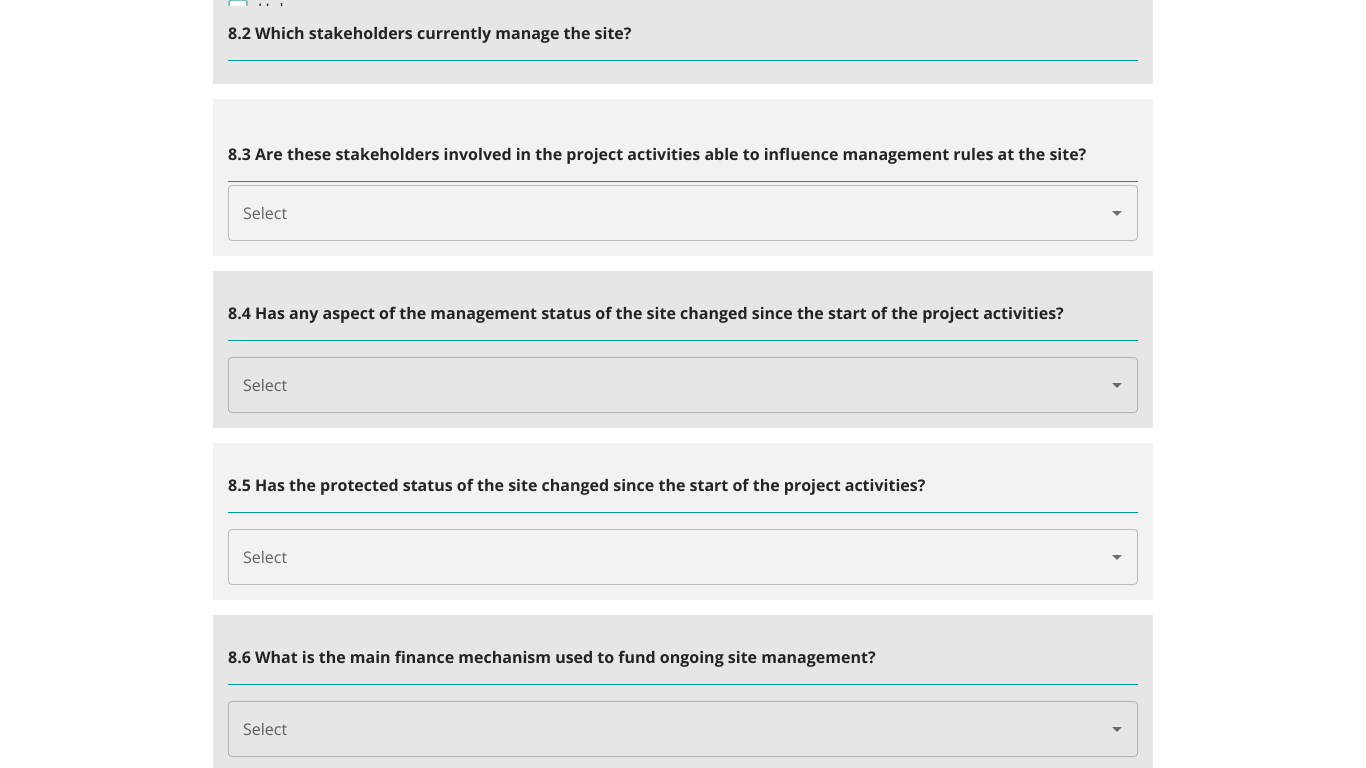
Scenario: monitoring forms › ManagementStatusAndEffectivenessForm › asks the follow-up questions only for the answers that need them
(page scrolled)
Expected: the text "8.4a What is the current management status of the site?" is not shown
Click the dropdown named "8.4 Has any aspect of the management status of the site changed since the start of the project activities?".
click(265, 384)  # box [228,356,1138,412]
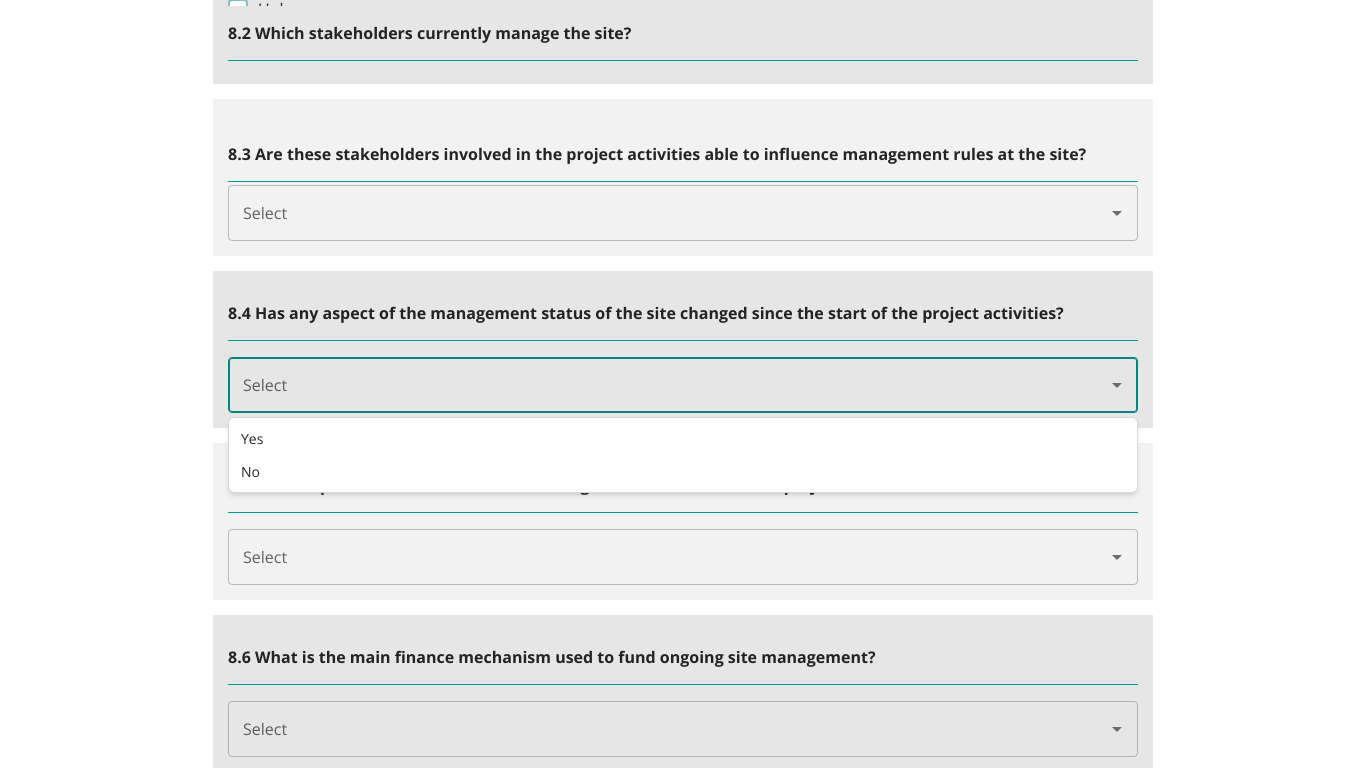
Click the option "Yes".
click(252, 438)  # box [241,429,263,448]
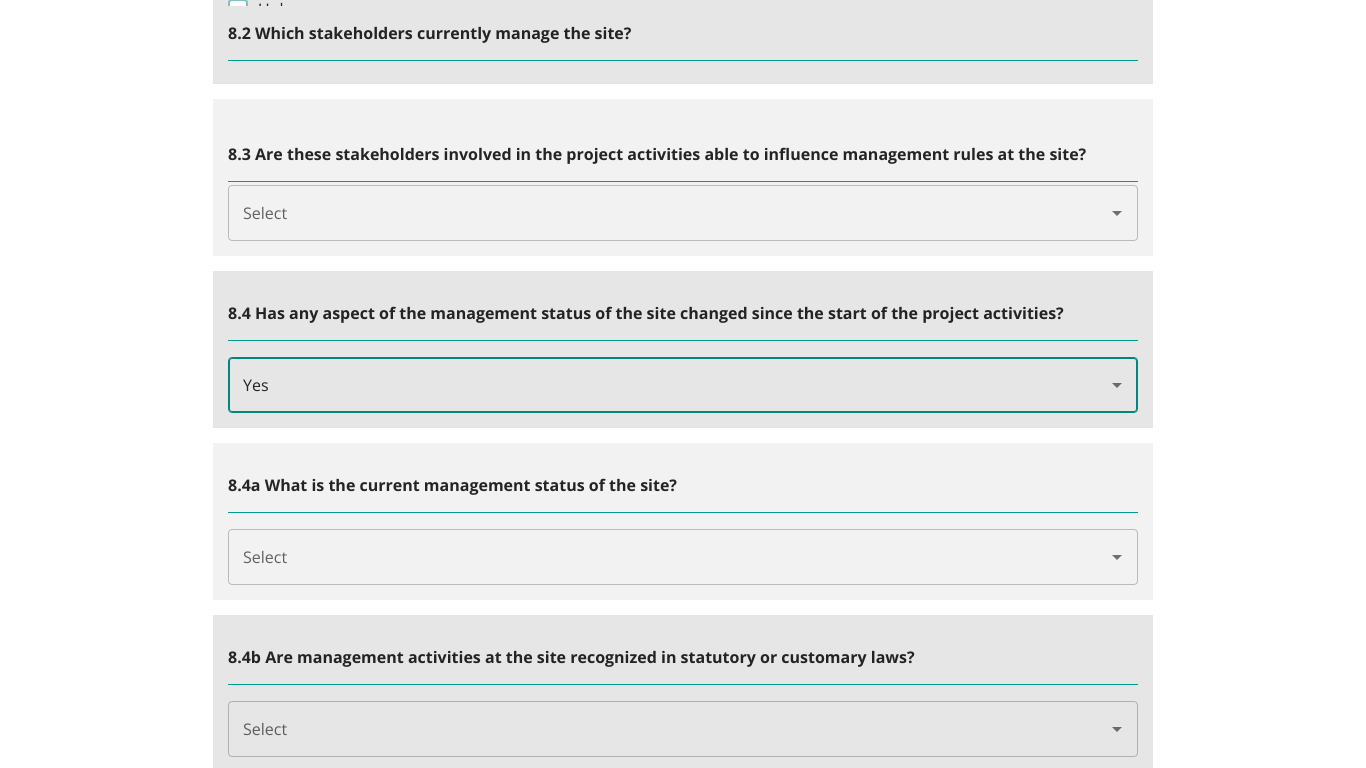
Expected: the text "8.4a What is the current management status of the site?" is shown, [228,472,677,496]
Expected: the text "Yes" is shown, [243,372,269,396]
